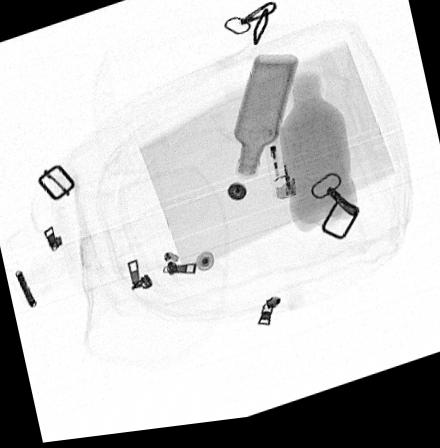Lighter: (262, 132, 296, 208)
